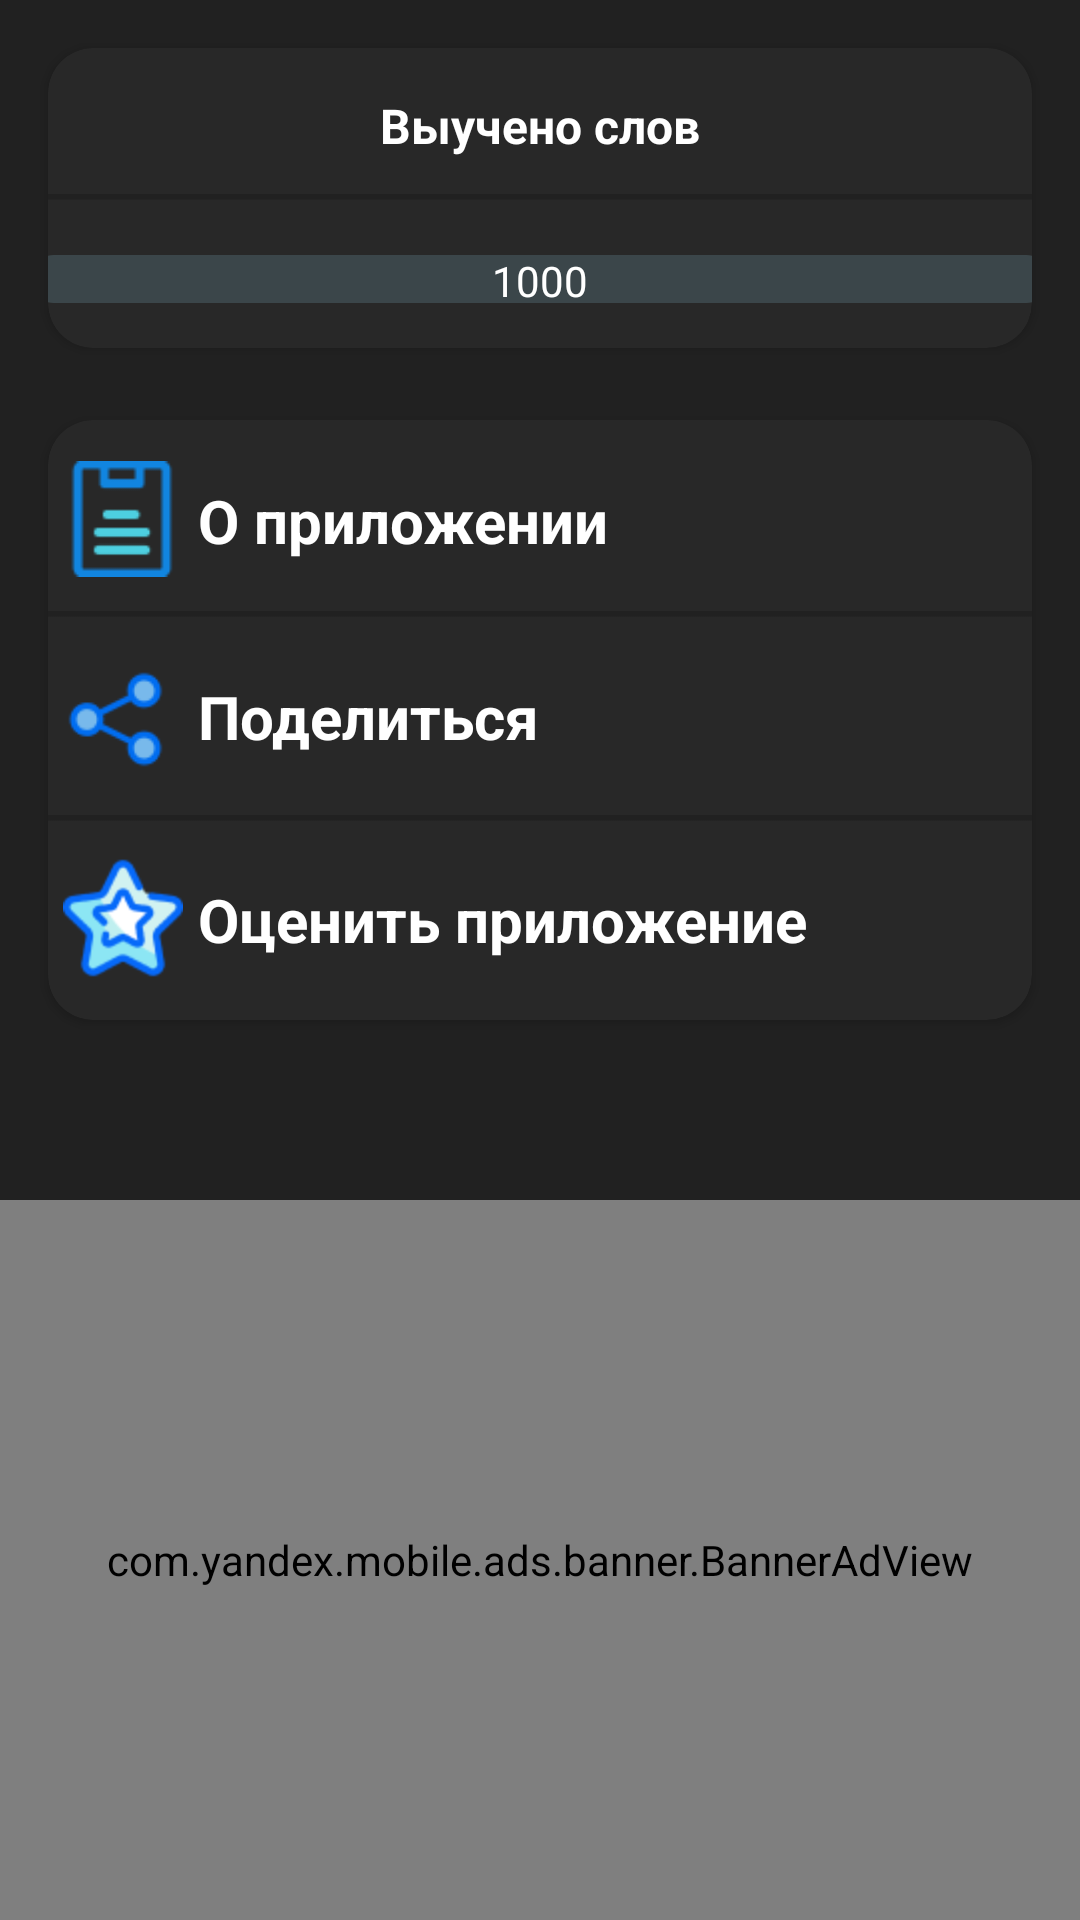

Screen size 1080 x 1920. Icon name, then its center in pixels as [x,y]:
share: [115,719]
star: [123,918]
